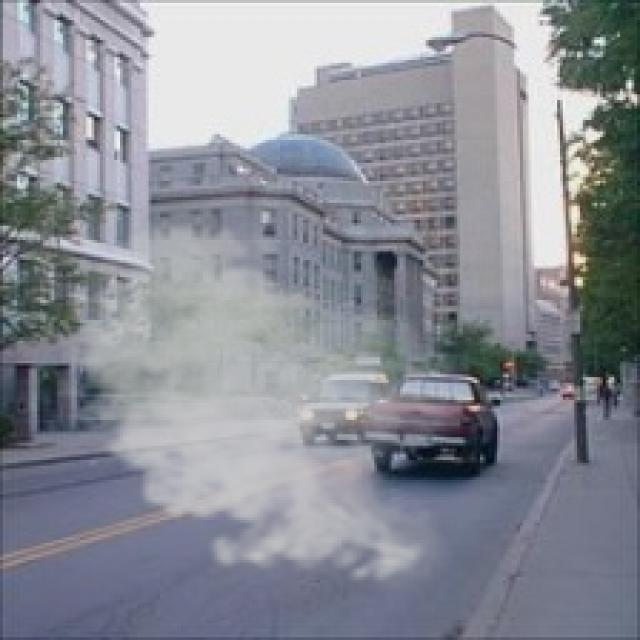Smoke: (48, 215, 474, 594)
